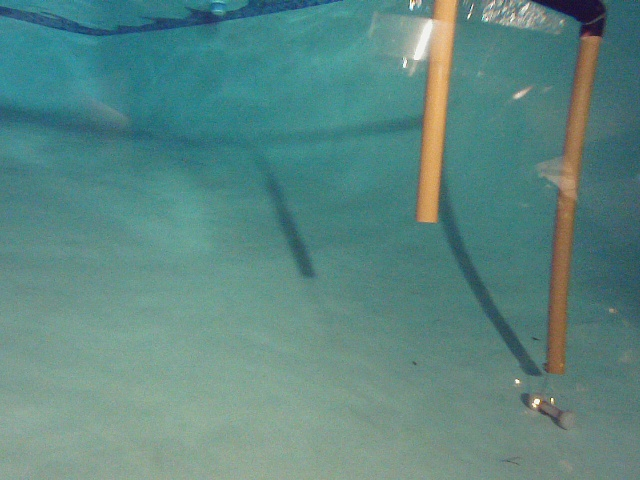Gate: (543, 26, 606, 379), (412, 1, 461, 226)
